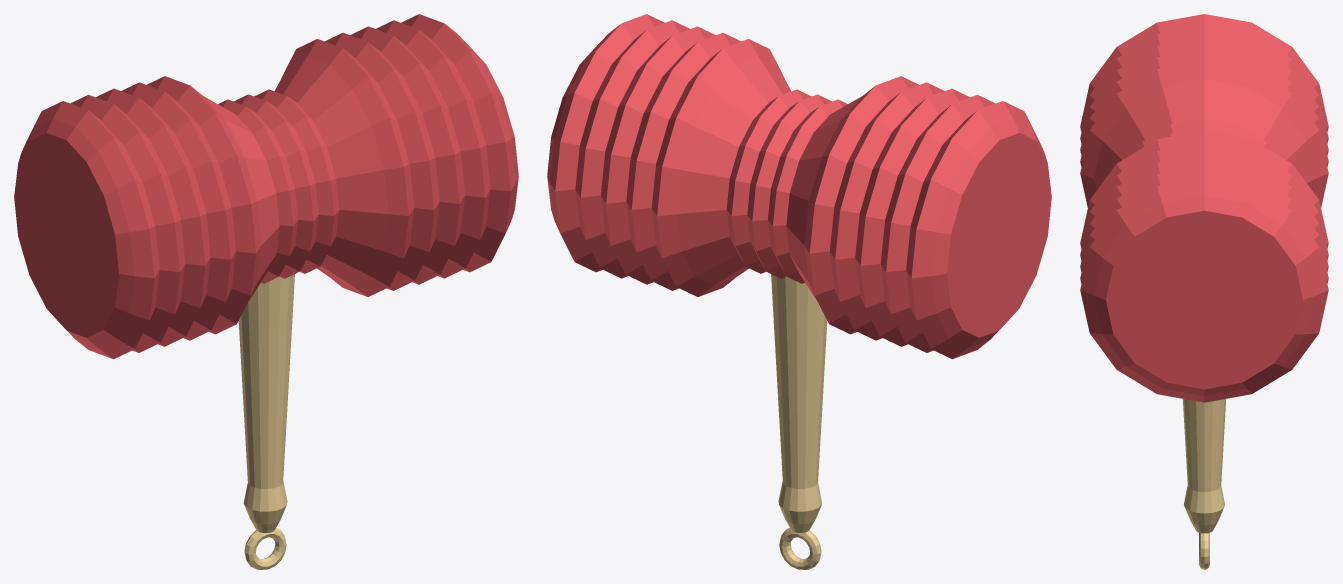
File: Hammer.glb
The picture shows the model from 3 angles, left to right: view 1: azimuth 30°, elevation 25°; view 2: azimuth 150°, elevation 25°; view 3: azimuth 270°, elevation 25°; orthographic projection. The views are drawn at different scales.
Parts seen in each view (by area): view 1: Hammer_Head, Hammer_Handle; view 2: Hammer_Head, Hammer_Handle; view 3: Hammer_Head, Hammer_Handle.
Boxes of the visible parts, box(x1,y1,x2,y2) form: Hammer_Head: box(14, 14, 518, 359); Hammer_Handle: box(238, 274, 294, 569); Hammer_Head: box(547, 14, 1051, 359); Hammer_Handle: box(771, 274, 827, 569); Hammer_Head: box(1080, 14, 1328, 402); Hammer_Handle: box(1182, 399, 1226, 569).
Size of the model in its own units: 2.2 by 2.64 by 1.26.
